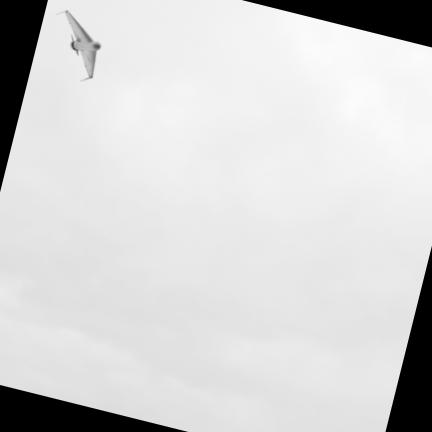Shahed: (48, 7, 103, 81)
